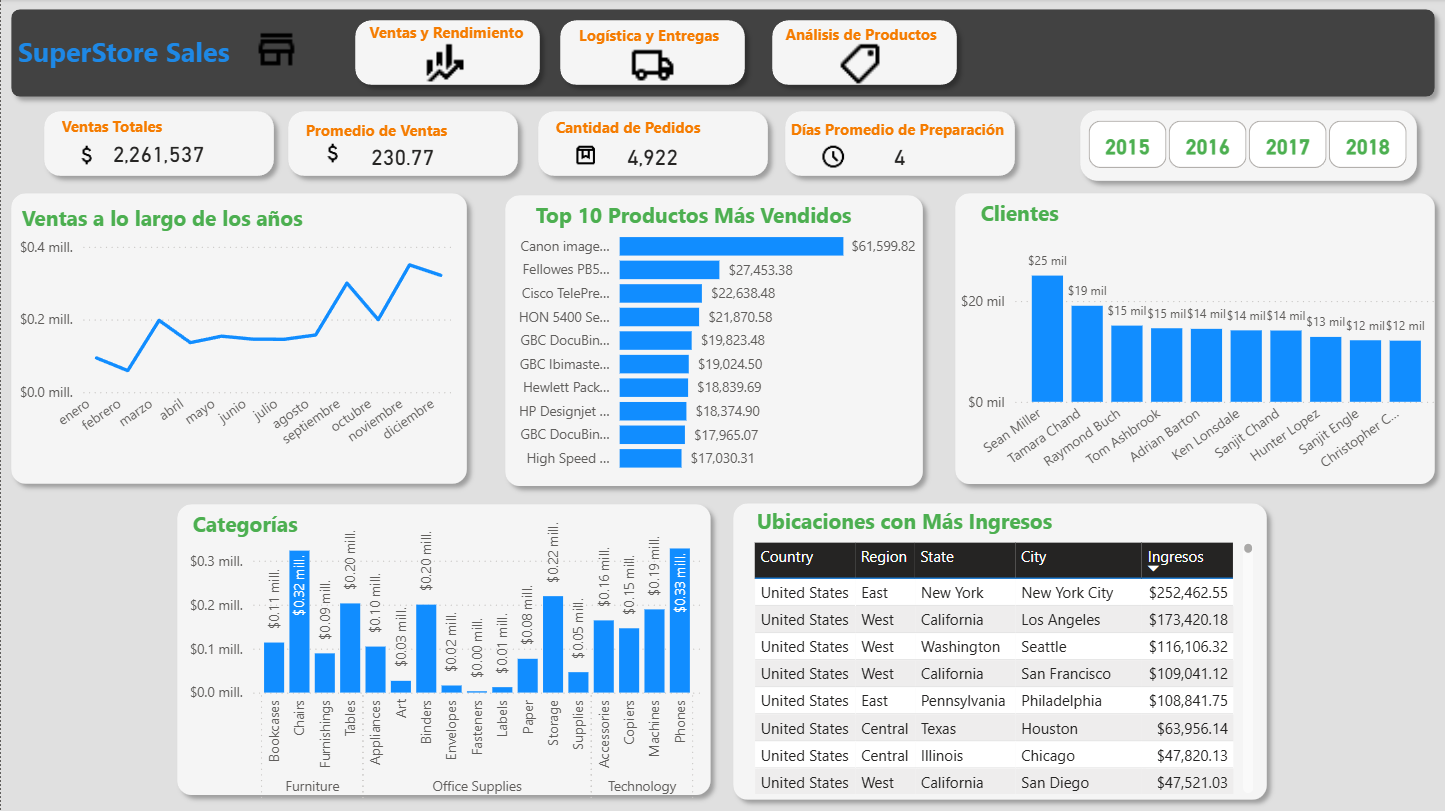

This screenshot's page, from the dashboard's own definition file:
{"tool":"powerbi","page":{"name":"Ventas y Rendimiento","canvas":[1280,720],"ordinal":0},"visuals":[{"type":"shape","box":[0,0,1280.4,95.8],"z":0},{"type":"textbox","box":[9.8,24.8,225.2,46.1],"z":1000},{"type":"shape","box":[0,86.9,243.8,633.1],"z":2000},{"type":"shape","box":[11.5,136.6,221.7,75.4],"z":3000},{"type":"shape","box":[243.8,95.8,516.9,314.8],"z":4000},{"type":"shape","box":[763.4,95.8,516.9,315.7],"z":5000},{"type":"shape","box":[247.1,404.6,516.5,315.1],"z":6000},{"type":"shape","box":[763.4,404.3,516.9,315.7],"z":7000},{"type":"shape","box":[11.5,211.9,221.7,75.4],"z":8000},{"type":"shape","box":[11.5,287.3,221.7,75.4],"z":9000},{"type":"shape","box":[11.5,360,221.7,75.4],"z":10000},{"type":"shape","box":[11.5,435.4,221.7,75.4],"z":11000},{"type":"shape","box":[11.5,510.7,221.7,75.4],"z":12000},{"type":"shape","box":[11.5,586.1,221.7,75.4],"z":13000},{"type":"pieChart","fields":{"Category":["store_sales_limpio.Category"],"Y":["CountNonNull(store_sales_limpio.Category)"]},"box":[267.8,435.4,472.6,273.1],"z":14000},{"type":"card","fields":{"Values":["Sum(store_sales_limpio.Sales)"]},"box":[51.6,170.2,141,27.2],"z":15000},{"type":"textbox","box":[31,145.4,107.3,29.3],"z":16000},{"type":"card","fields":{"Values":["Avg(store_sales_limpio.Sales)"]},"box":[51.4,248.3,141,27.5],"z":17000},{"type":"textbox","box":[31,224.3,148.1,29.3],"z":18000},{"type":"card","fields":{"Values":["Count(store_sales_limpio.Order ID)"]},"box":[51.6,323.9,141,28.2],"z":19000},{"type":"textbox","box":[31.1,296.7,147.8,29.2],"z":20000},{"type":"image","box":[37,168.3,42.8,32.1],"z":21000},{"type":"image","box":[38.9,242.2,42,32],"z":22000},{"type":"image","box":[41.8,319,42,32],"z":23000},{"type":"clusteredBarChart","fields":{"Y":["Sum(store_sales_limpio.Sales)"],"Category":["store_sales_limpio.Product Name"]},"box":[789.2,127.7,467.3,266.9],"z":24000},{"type":"textbox","box":[278.4,415,243.8,40.8],"z":25000},{"type":"image","box":[216.9,18.5,53.5,51.6],"z":26000},{"type":"textbox","box":[267.8,100.2,331.6,40.8],"z":27000},{"type":"textbox","box":[812.3,100.5,348,40.7],"z":28000},{"type":"shape","box":[812.2,9.7,460.1,74.9],"z":29000},{"type":"advancedSlicerVisual","fields":{"Values":["store_sales_limpio.Order Date.Variación.Jerarquía de fechas.Año"]},"box":[826.7,23.3,428.9,47.7],"z":30000},{"type":"tableEx","fields":{"Values":["store_sales_limpio.Country","store_sales_limpio.Region","store_sales_limpio.State","store_sales_limpio.City","Sum(store_sales_limpio.Sales)"]},"box":[788.8,448.4,466.9,260.7],"z":31000},{"type":"textbox","box":[812.2,415.3,331.7,40.9],"z":32000},{"type":"lineChart","fields":{"Category":["store_sales_limpio.Order Date.Variación.Jerarquía de fechas.Mes"],"Y":["Sum(store_sales_limpio.Sales)"]},"box":[267.8,141,472.6,253.6],"z":33000},{"type":"textbox","box":[17.7,371.5,208.4,31.9],"z":34000},{"type":"card","fields":{"Values":["store_sales_limpio.Average Difference in Days"]},"box":[96.7,394.6,50.5,31],"z":35000},{"type":"image","box":[41.7,392.8,42,32.8],"z":36000}]}

Visuals, with their boxes in screenshot pixels (x1, y1, x2, y2), scaled from the page's 1280x720 canvas onto the 1445x811 screenshot:
shape: crop(0, 0, 1444, 108)
textbox: crop(11, 28, 265, 80)
shape: crop(0, 98, 275, 810)
shape: crop(13, 154, 263, 239)
shape: crop(275, 108, 859, 462)
shape: crop(862, 108, 1444, 464)
shape: crop(279, 456, 862, 810)
shape: crop(862, 455, 1444, 810)
shape: crop(13, 239, 263, 324)
shape: crop(13, 324, 263, 409)
shape: crop(13, 406, 263, 490)
shape: crop(13, 490, 263, 575)
shape: crop(13, 575, 263, 660)
shape: crop(13, 660, 263, 745)
pieChart - store_sales_limpio.Category x CountNonNull(store_sales_limpio.Category): crop(302, 490, 836, 798)
card - Sum(store_sales_limpio.Sales): crop(58, 192, 217, 222)
textbox: crop(35, 164, 156, 197)
card - Avg(store_sales_limpio.Sales): crop(58, 280, 217, 311)
textbox: crop(35, 253, 202, 286)
card - Count(store_sales_limpio.Order ID): crop(58, 365, 217, 397)
textbox: crop(35, 334, 202, 367)
image: crop(42, 190, 90, 226)
image: crop(44, 273, 91, 309)
image: crop(47, 359, 95, 395)
clusteredBarChart - Sum(store_sales_limpio.Sales) x store_sales_limpio.Product Name: crop(891, 144, 1418, 444)
textbox: crop(314, 467, 590, 513)
image: crop(245, 21, 305, 79)
textbox: crop(302, 113, 677, 159)
textbox: crop(917, 113, 1310, 159)
shape: crop(917, 11, 1436, 95)
advancedSlicerVisual - store_sales_limpio.Order Date.Variación.Jerarquía de fechas.Año: crop(933, 26, 1417, 80)
tableEx - store_sales_limpio.Country x store_sales_limpio.Region: crop(890, 505, 1418, 799)
textbox: crop(917, 468, 1291, 514)
lineChart - store_sales_limpio.Order Date.Variación.Jerarquía de fechas.Mes x Sum(store_sales_limpio.Sales): crop(302, 159, 836, 444)
textbox: crop(20, 418, 255, 454)
card - store_sales_limpio.Average Difference in Days: crop(109, 444, 166, 479)
image: crop(47, 442, 94, 479)
